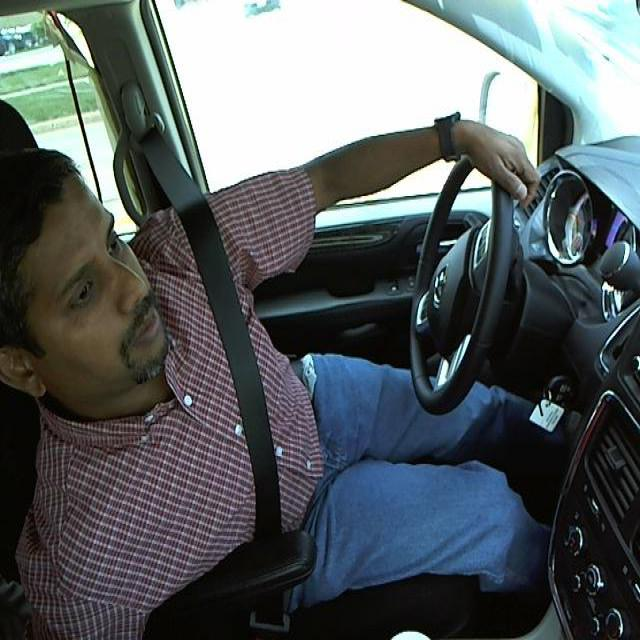seatbelt: (194, 259, 309, 529)
